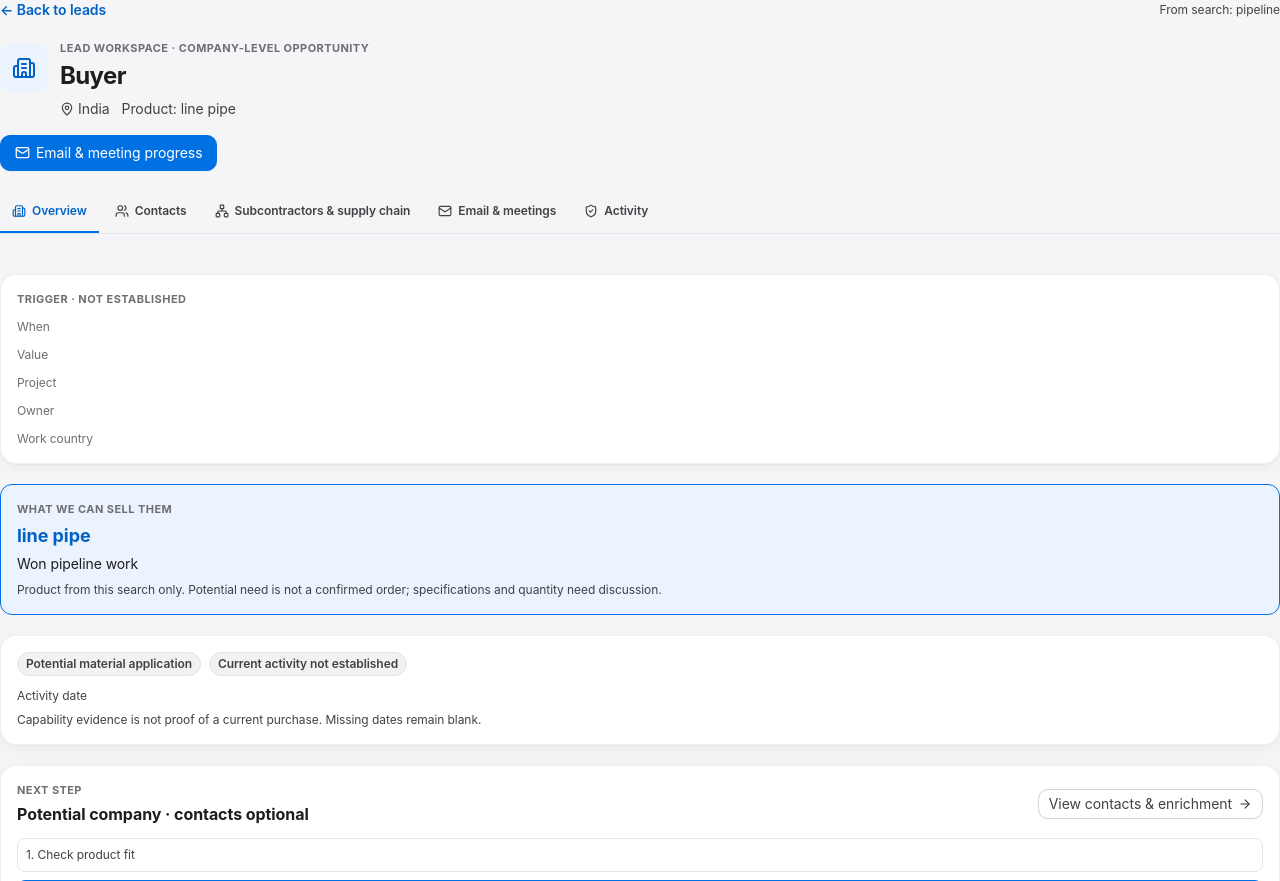
Scenario: guided workspace › shows the real conversation path and integration requirements instead of a manual send button
The width and height of the screenshot is (1280, 881).
Click the tab "Email & meetings" at (497, 212), box x1=426 y1=190 x2=568 y2=232
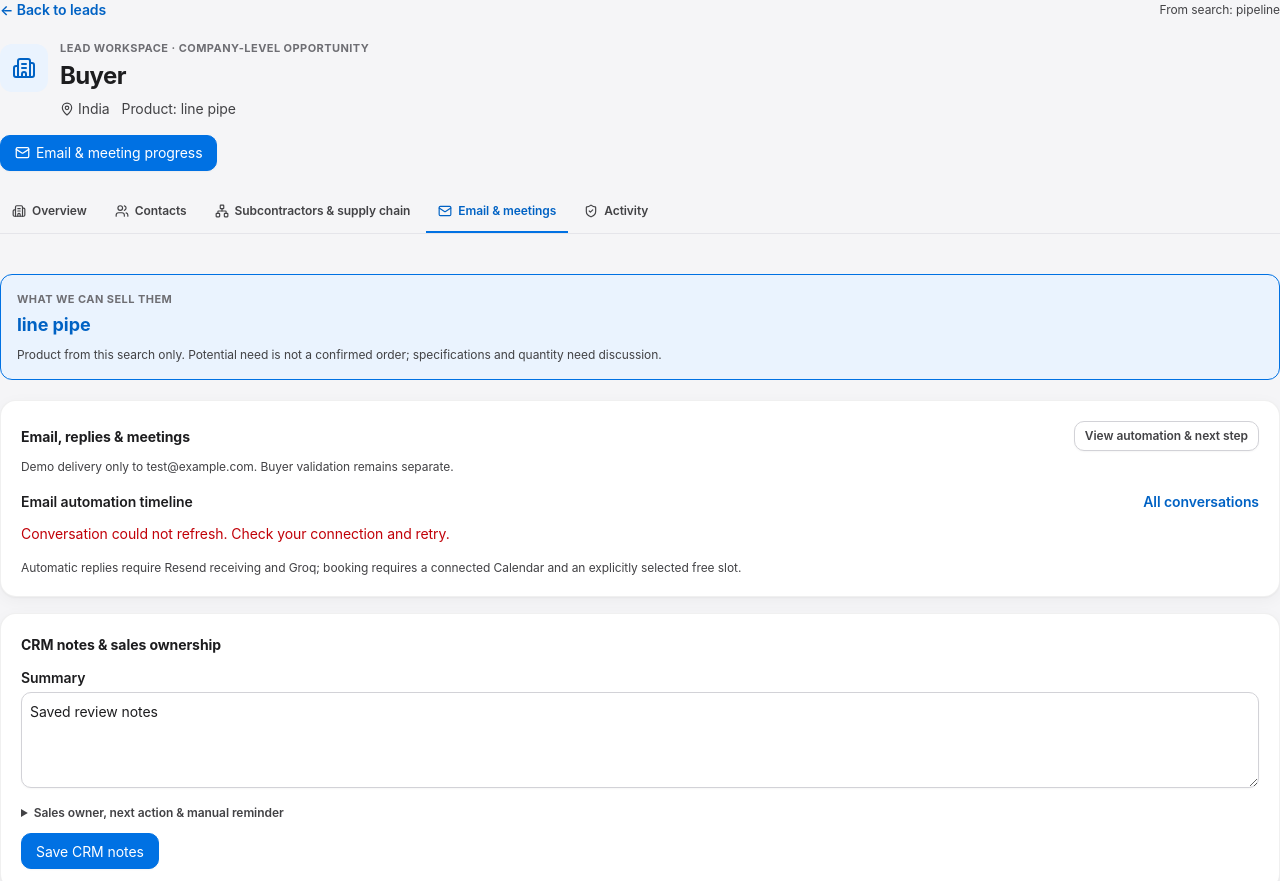
Check: the heading "Email automation timeline" is shown, box x1=21 y1=491 x2=193 y2=512
Check: the text "booking requires a connected Calendar" is shown, box x1=21 y1=560 x2=741 y2=575
